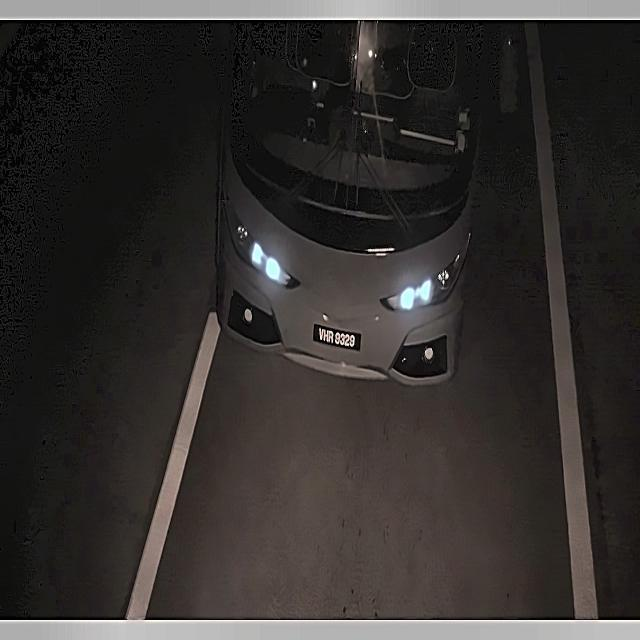car: (312, 314, 366, 357)
